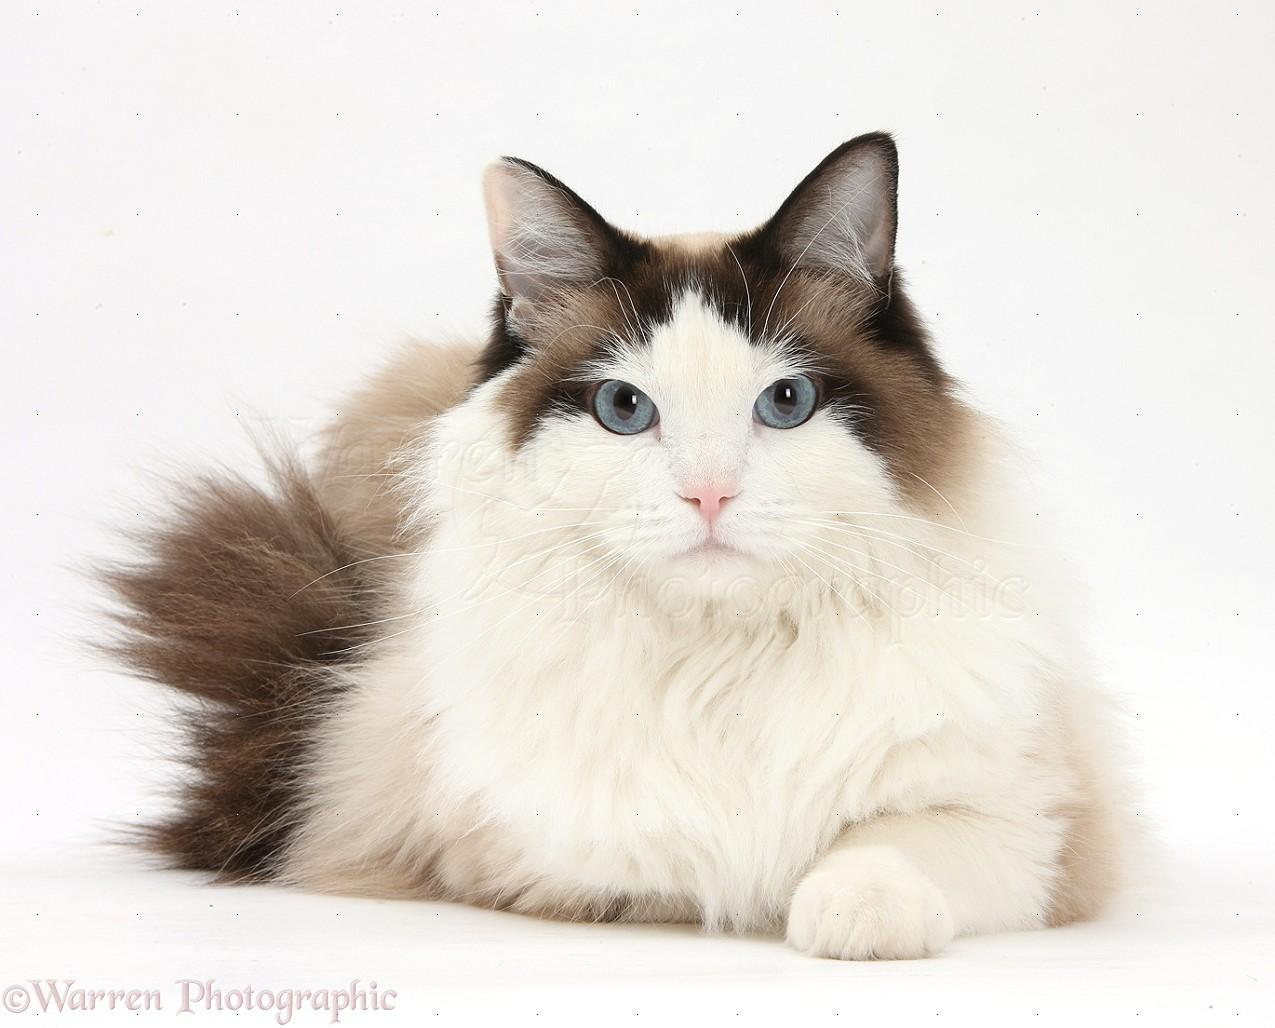ragdoll: (464, 135, 958, 617)
